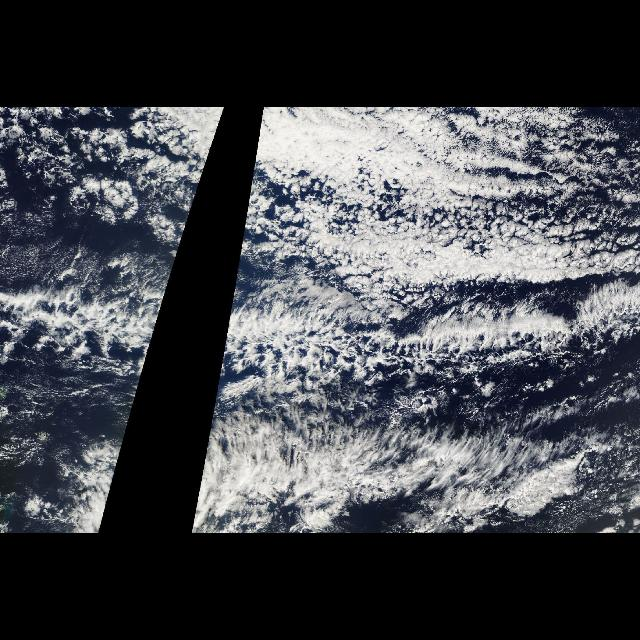Fish: (212, 258, 638, 412), (2, 258, 176, 412)
Flower: (297, 174, 639, 260), (5, 107, 199, 251)
